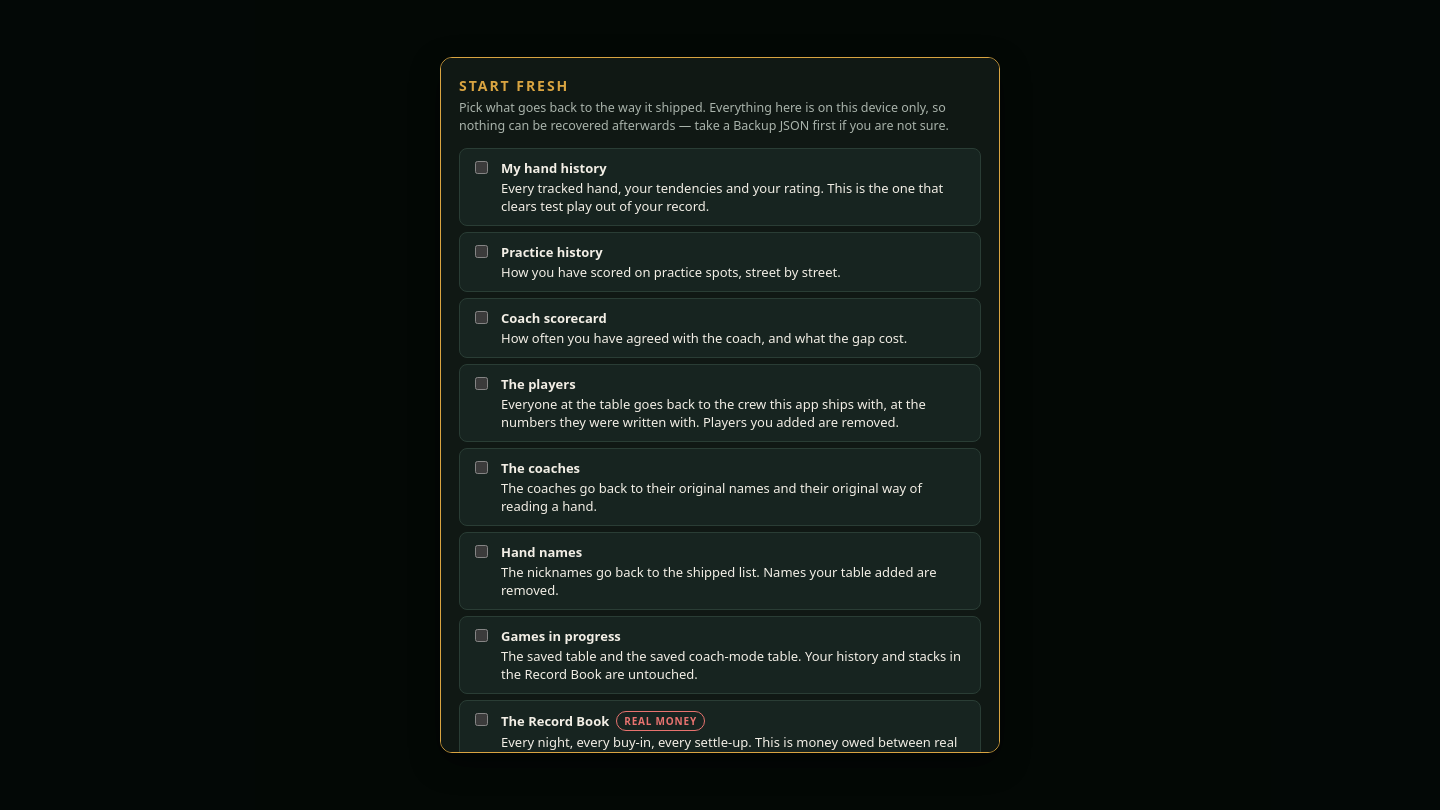
starting fresh › warns in plain words when the Record Book is chosen
Click the text "The Record Book" at (603, 721), box x1=501 y1=711 x2=705 y2=731
(page scrolled)
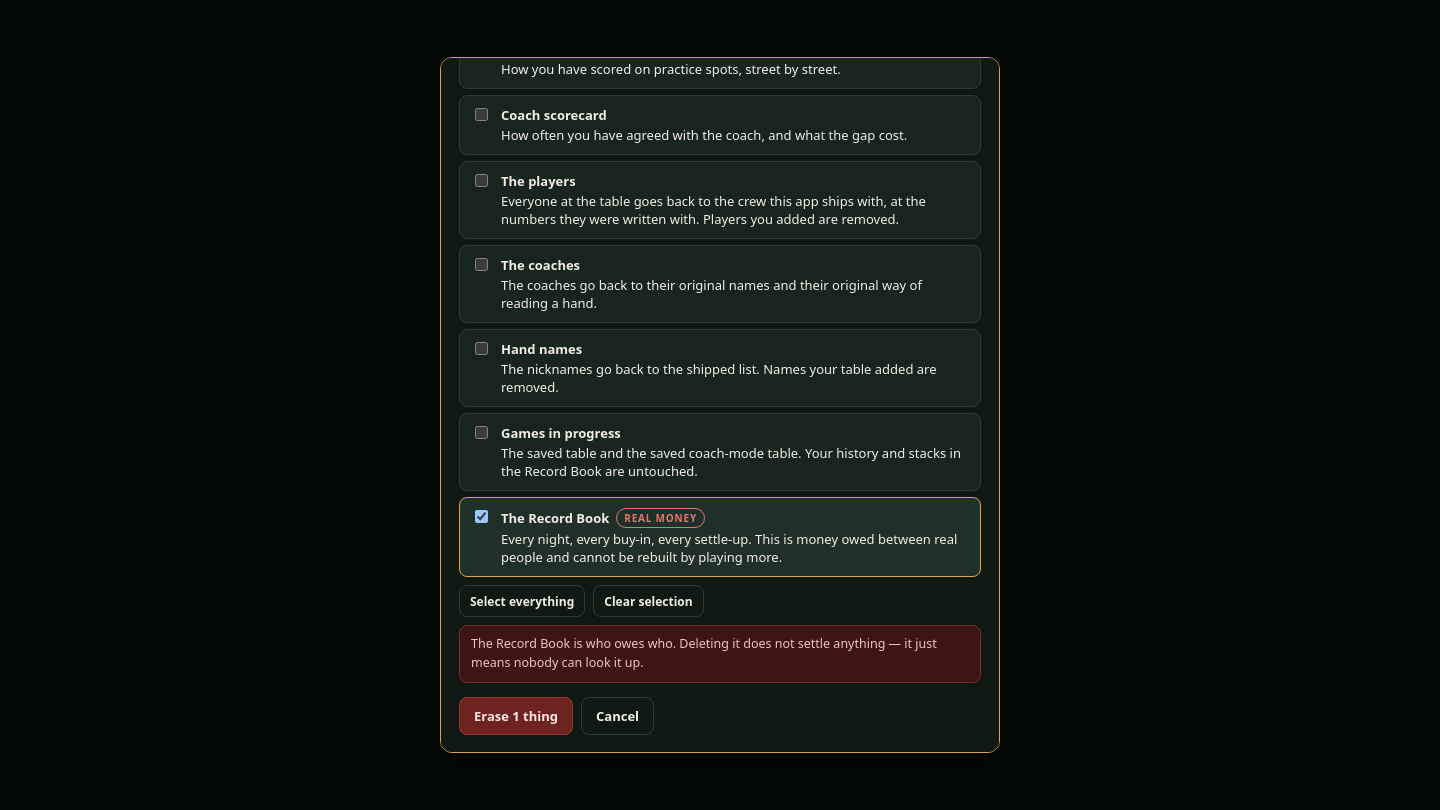
Expected: the text with class "bad" shows "does not settle", x1=471 y1=635 x2=937 y2=671
